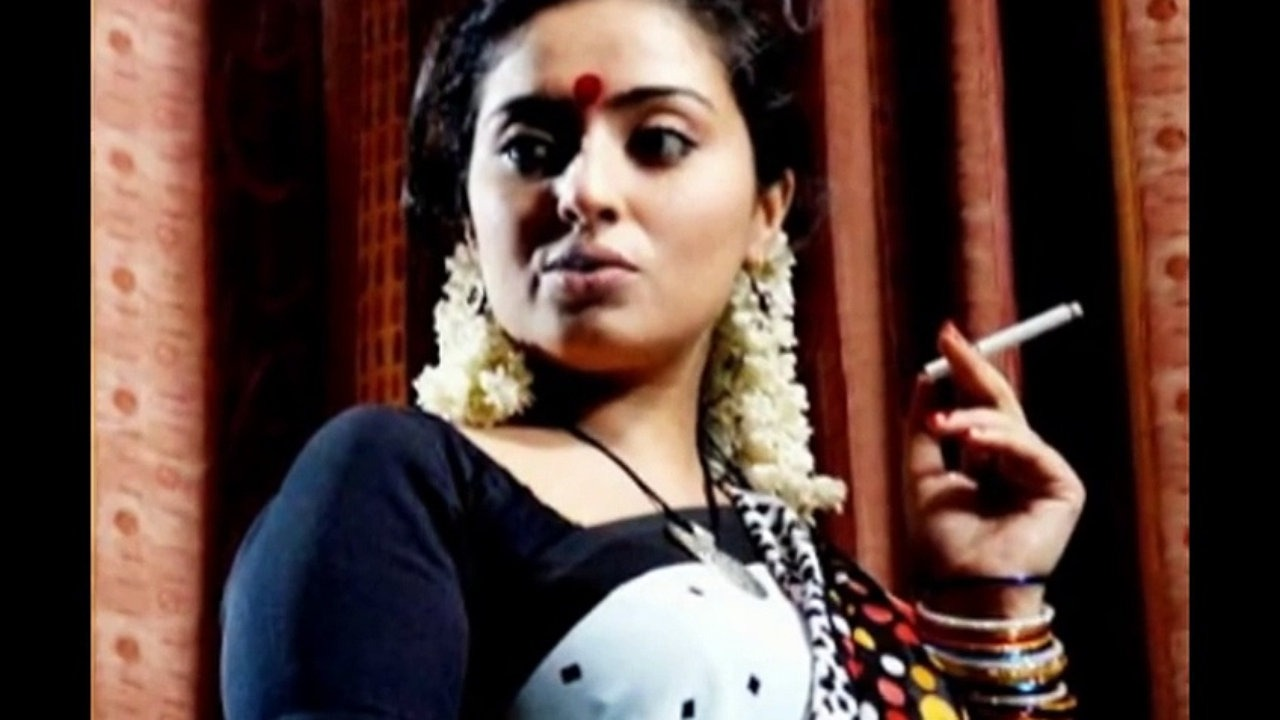cigarette: (921, 299, 1094, 379)
